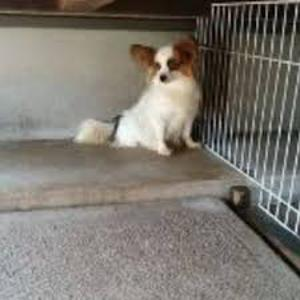yell: (71, 36, 202, 154)
